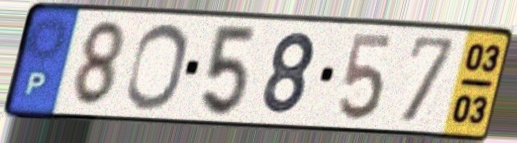5: (196, 22, 259, 120), (334, 29, 398, 123)
7: (403, 33, 460, 127)
8: (69, 18, 129, 110), (261, 29, 316, 118)
O: (122, 20, 191, 113)
